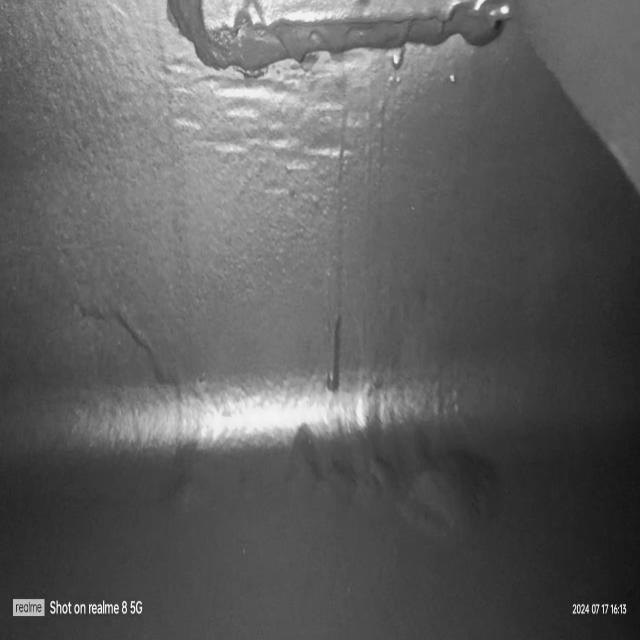paint drips: (74, 291, 194, 396), (322, 306, 350, 405), (385, 38, 411, 88)
